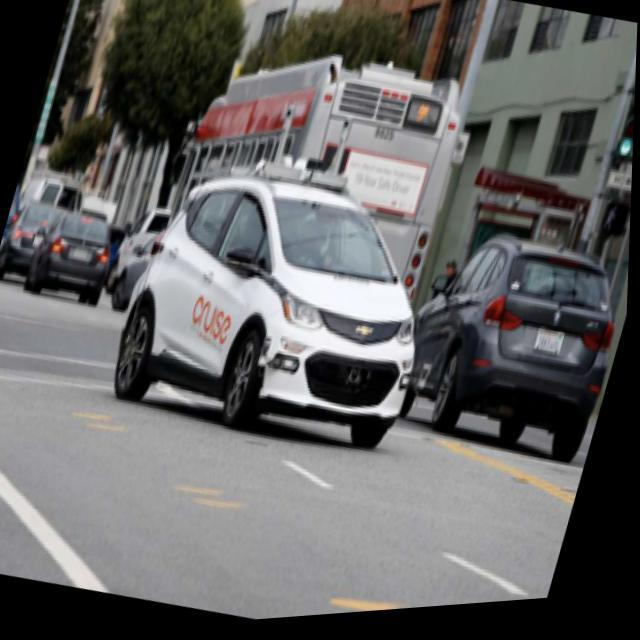license_plate: (532, 332, 570, 367)
